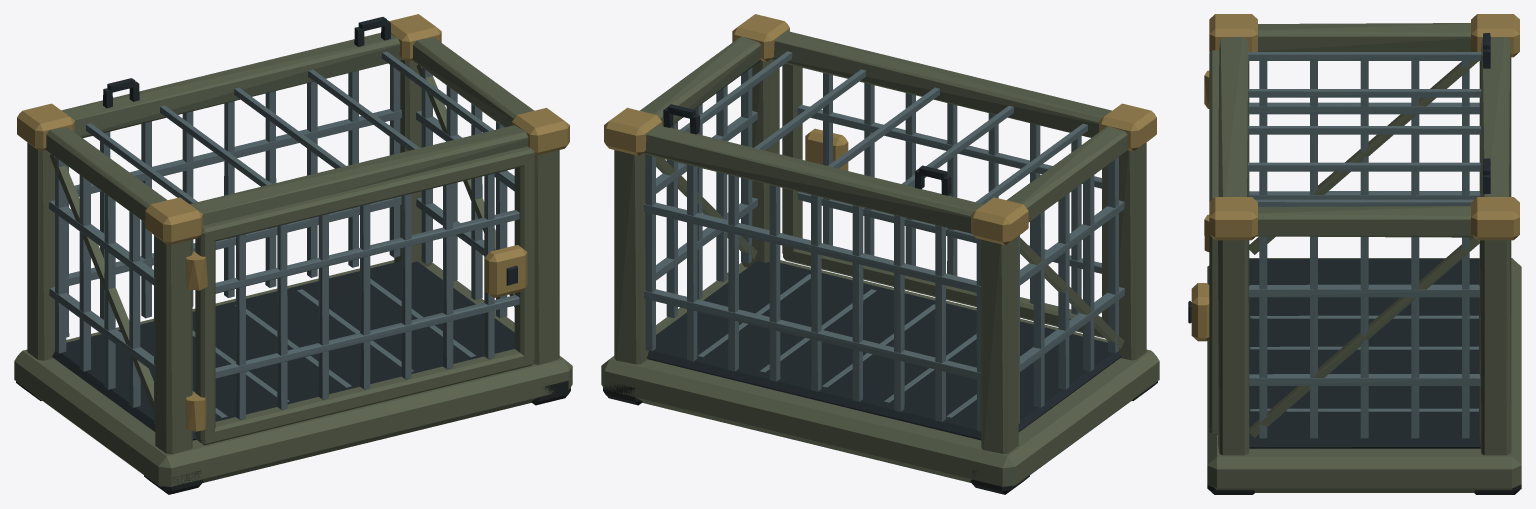
Rendered from MINER_CAGE.lo.glb.
3 views of the same model, side by side, from view 1: azimuth 30°, elevation 25°; view 2: azimuth 150°, elevation 25°; view 3: azimuth 270°, elevation 25° (orthographic). The views are drawn at different scales.
Parts seen in each view (by area): view 1: Body_Mesh, DoorPivot_Mesh; view 2: Body_Mesh, DoorPivot_Mesh; view 3: Body_Mesh, DoorPivot_Mesh.
Part boxes in pixels (<box>): Body_Mesh: <box>14,14,572,494</box>; DoorPivot_Mesh: <box>195,146,534,445</box>; Body_Mesh: <box>601,14,1159,494</box>; DoorPivot_Mesh: <box>782,63,1107,338</box>; Body_Mesh: <box>1204,14,1521,494</box>; DoorPivot_Mesh: <box>1188,50,1219,434</box>.
Bounding box in the file's own units: 2.8 × 1.9 × 1.91.
